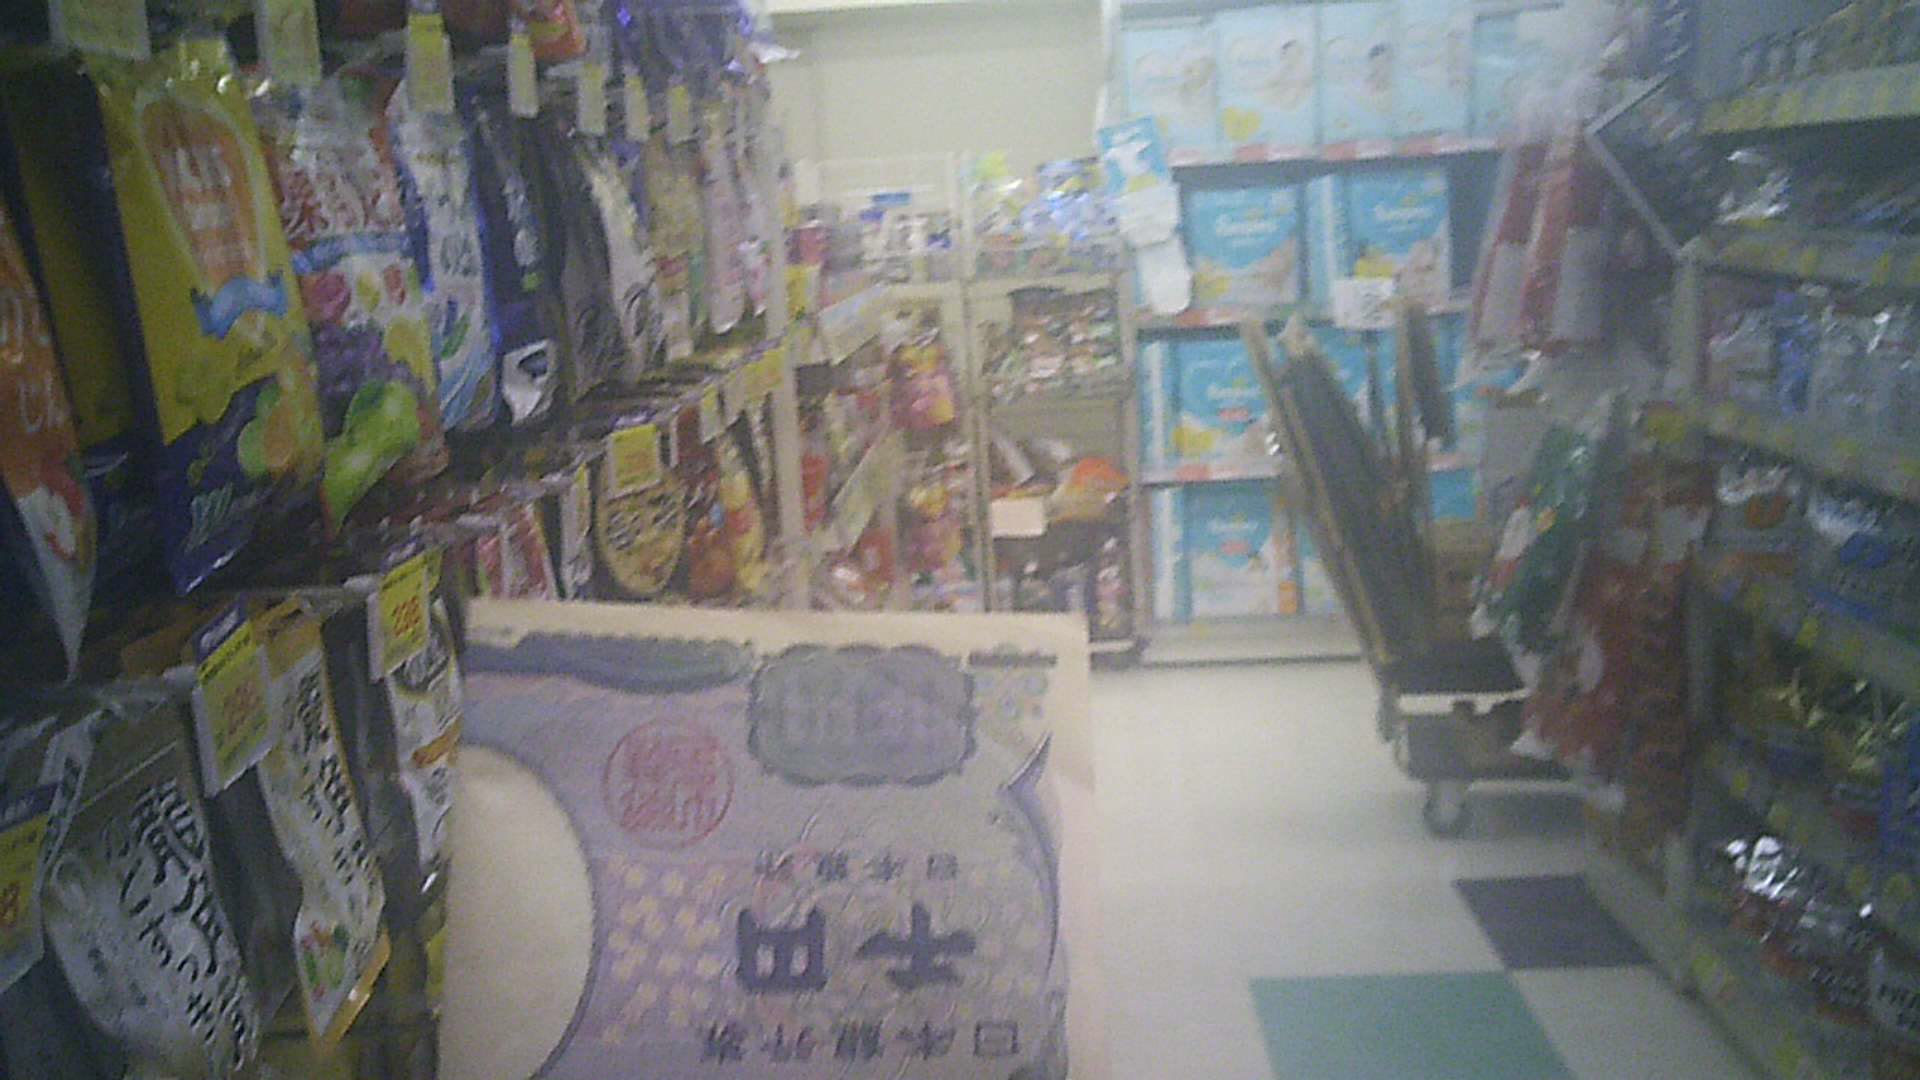1,000 Yen: (450, 587, 1080, 1079)
